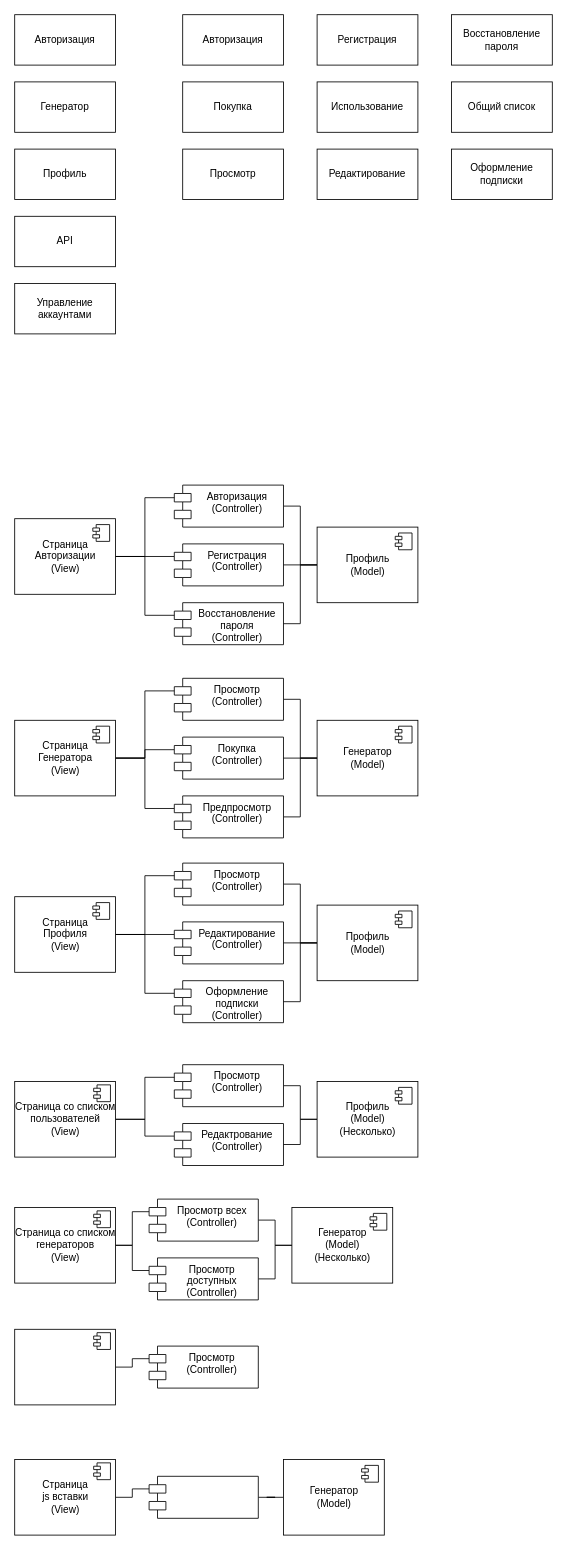
Image size: 567x1550. Some labels were removed from this diagram. Each missing label, with the box of its shape:
Использование API (Controller): (148, 1475, 258, 1518)
Страница с документацией API (View): (14, 1328, 116, 1405)
